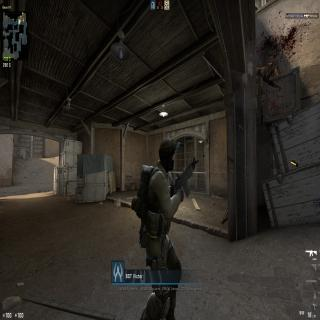CT-Head: (158, 135, 176, 173)
